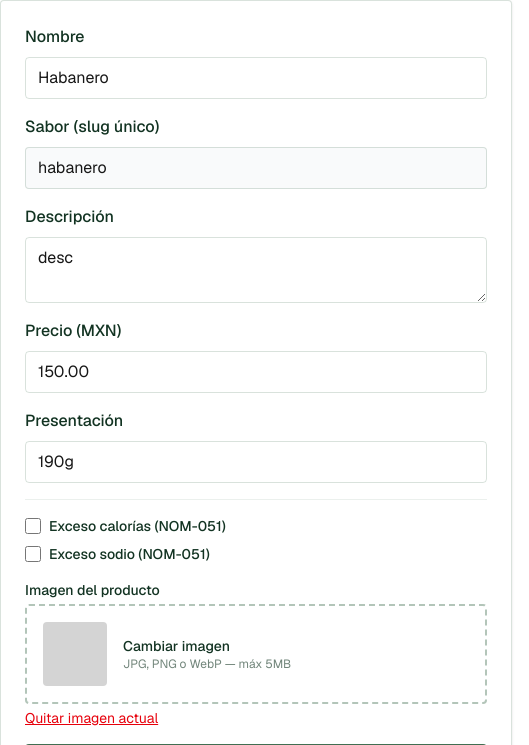
ProductForm — quitar imagen actual › éxito → 'Imagen eliminada'
This screenshot has width=529, height=745.
Click the button "Quitar imagen actual" at (92, 718), box [25,708,158,728]
(page scrolled)
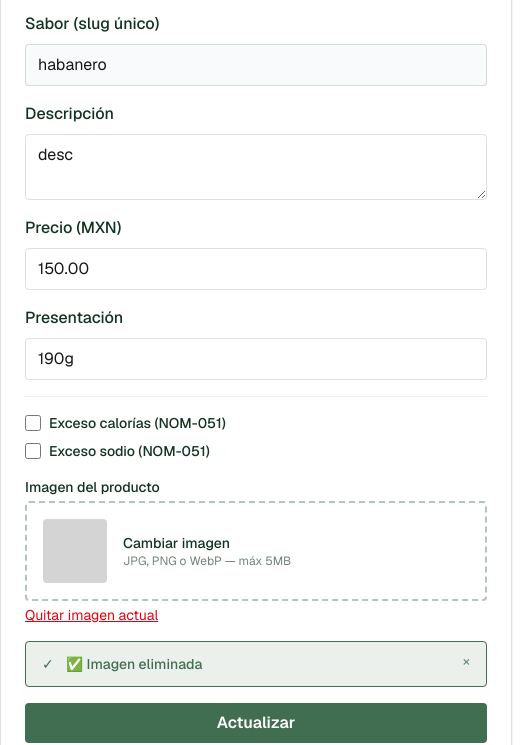
Result: the message shows "Imagen eliminada" at [66,655,202,673]
